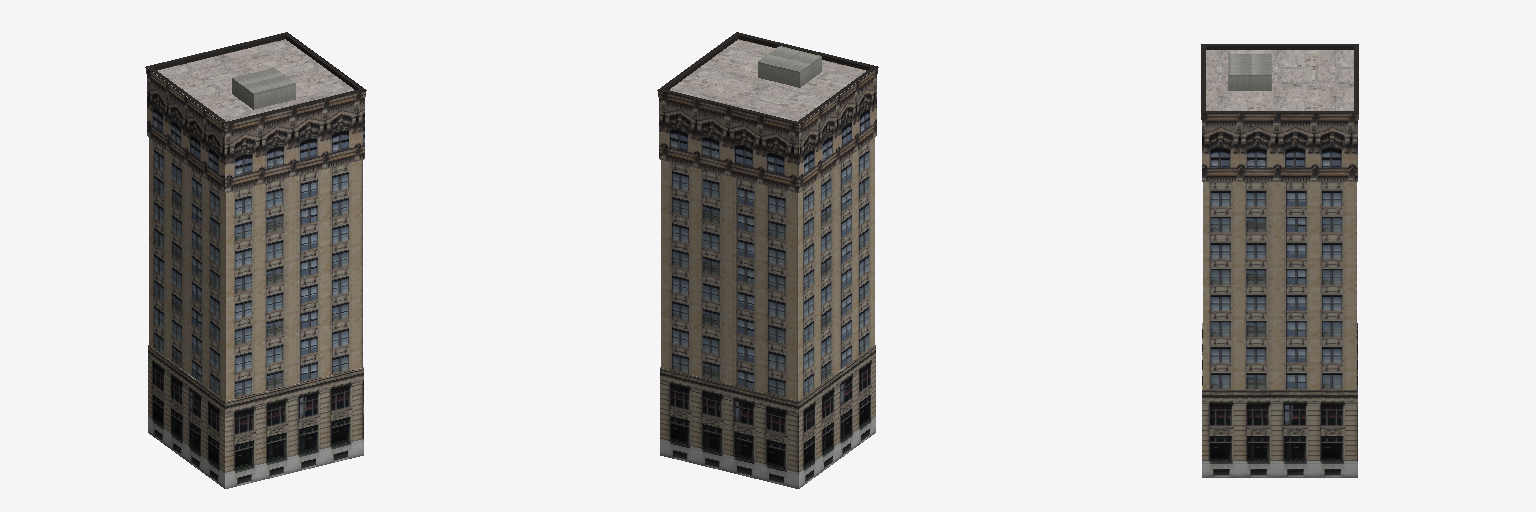
3 renders of one model, left to right at view 1: azimuth 30°, elevation 25°; view 2: azimuth 150°, elevation 25°; view 3: azimuth 270°, elevation 25°, orthographic.
Visible parts, largest first — view 1: building_35; view 2: building_35; view 3: building_35.
Boxes of the visible parts, <box> form: building_35: <box>145,32,366,488</box>; building_35: <box>657,32,878,488</box>; building_35: <box>1201,44,1358,477</box>.
Size of the model in its own units: 57.95 by 147 by 56.05.
Materials: 1 (1 with a texture image).